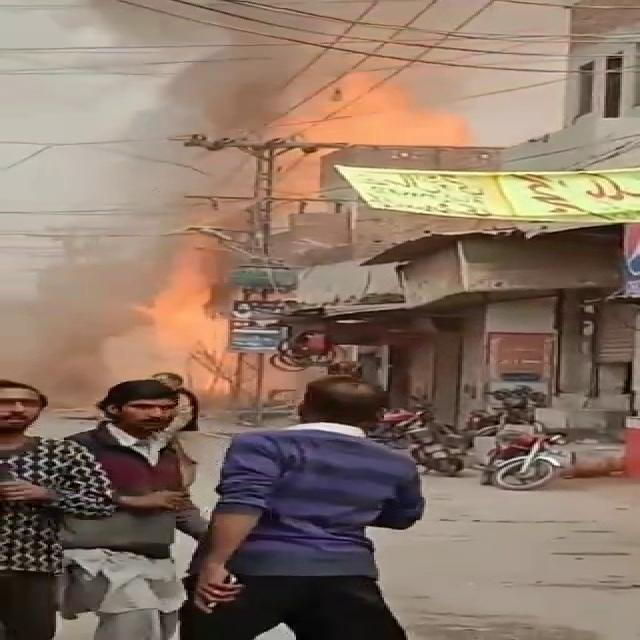Fire: (262, 73, 476, 198), (148, 245, 244, 381)
Smoke: (0, 58, 304, 360), (230, 0, 494, 35), (98, 0, 246, 30)
